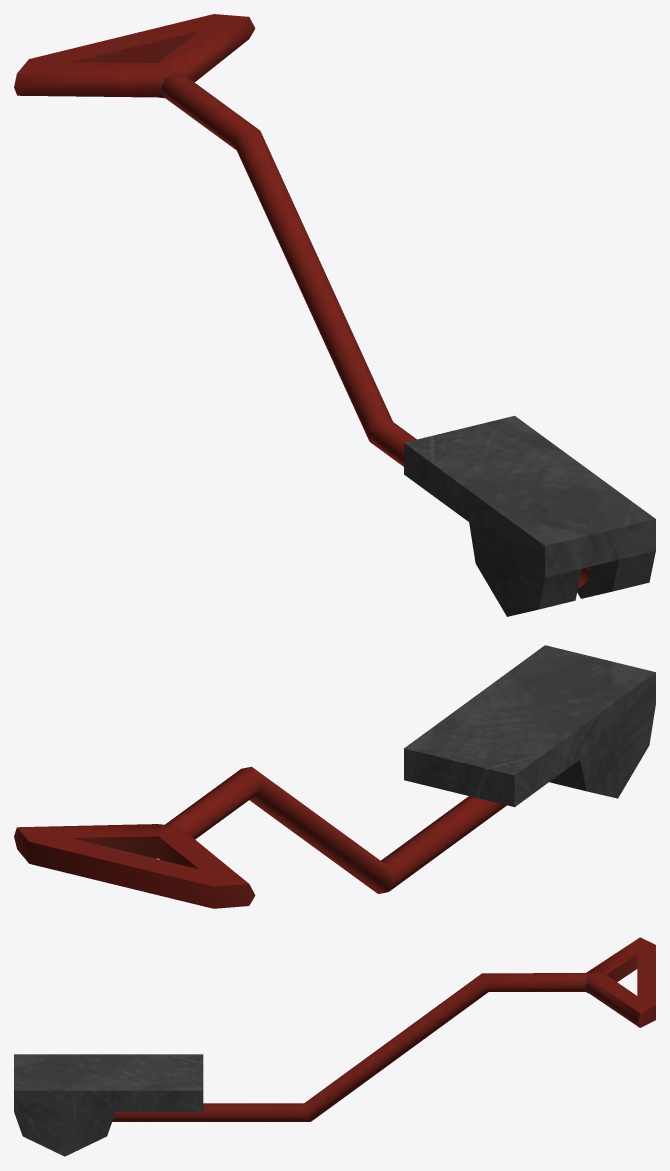
The model's file is leaver_base.glb.
3 renders of one model, top to bottom at view 1: azimuth 30°, elevation 25°; view 2: azimuth 150°, elevation 25°; view 3: azimuth 270°, elevation 25°, orthographic. The views are drawn at different scales.
Parts seen in each view (by area): view 1: leaver_base, leaver; view 2: leaver_base, leaver; view 3: leaver_base, leaver.
Boxes of the visible parts, x1,y1,x2,y2 form: leaver_base: (404, 415, 655, 616); leaver: (14, 14, 590, 587); leaver_base: (404, 645, 655, 807); leaver: (14, 766, 506, 908); leaver_base: (14, 1054, 203, 1156); leaver: (112, 937, 655, 1121).
Bounding box in the file's own units: 1.43 × 1.39 × 4.91.
Materials: 2 (2 with a texture image).
